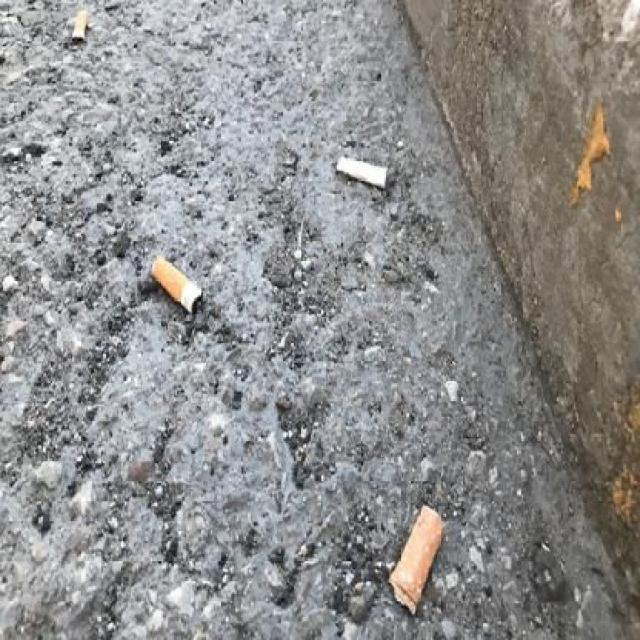cigarette: (379, 500, 453, 631), (148, 244, 227, 333), (329, 133, 400, 210)
